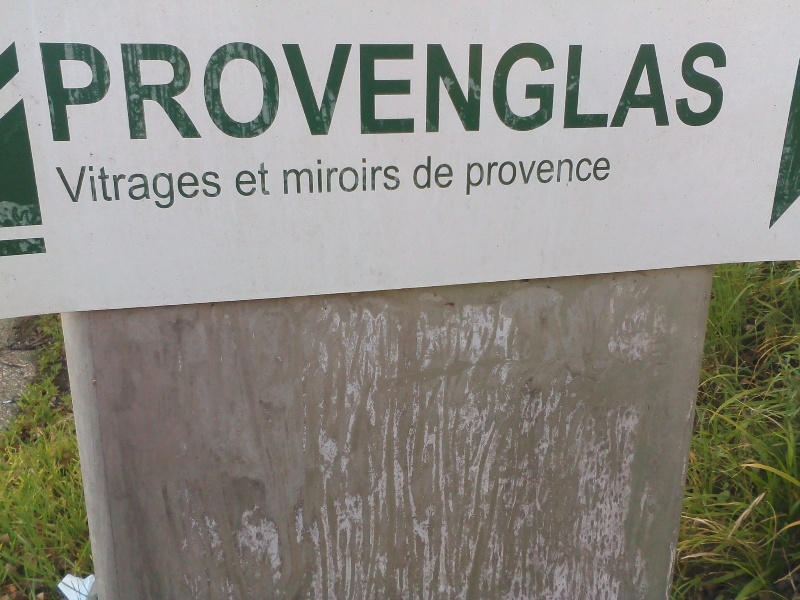text: (49, 41, 64, 143), (65, 41, 80, 143), (81, 41, 96, 143), (97, 41, 112, 143), (113, 41, 128, 143), (129, 41, 144, 143), (145, 41, 160, 143), (161, 41, 176, 143), (177, 41, 192, 143), (193, 41, 208, 143), (209, 41, 224, 143), (225, 41, 240, 143), (241, 41, 256, 143), (257, 41, 272, 143), (273, 41, 288, 143), (289, 41, 304, 143), (305, 41, 320, 143), (321, 41, 336, 143), (337, 41, 352, 143), (353, 41, 368, 143), (369, 41, 384, 143), (385, 41, 400, 143), (401, 41, 416, 143), (417, 41, 432, 143), (433, 41, 448, 143), (449, 41, 464, 143), (465, 41, 480, 143), (481, 41, 496, 143), (497, 41, 512, 143), (513, 41, 528, 143), (529, 41, 544, 143), (545, 41, 560, 143), (561, 41, 576, 143), (577, 41, 592, 143), (593, 41, 608, 143), (609, 41, 624, 143), (625, 41, 640, 143), (641, 41, 656, 143), (657, 41, 672, 143), (673, 41, 688, 143), (689, 41, 704, 143), (705, 41, 720, 143), (38, 41, 48, 143), (65, 165, 80, 214), (81, 165, 96, 214), (97, 165, 112, 214), (113, 165, 128, 214), (129, 165, 144, 214), (145, 165, 160, 214), (161, 165, 176, 214), (177, 165, 192, 214), (193, 165, 208, 214), (721, 41, 728, 143), (209, 165, 223, 214), (385, 155, 401, 196), (289, 155, 304, 196), (305, 155, 320, 196), (321, 155, 336, 196), (337, 155, 352, 196), (353, 155, 368, 196), (369, 155, 384, 196), (481, 156, 496, 196), (497, 156, 512, 196), (513, 156, 528, 196), (529, 156, 544, 196), (545, 156, 560, 196), (561, 156, 576, 196), (577, 156, 592, 196), (593, 156, 608, 196), (417, 154, 432, 191), (433, 154, 448, 191), (241, 162, 256, 198), (467, 156, 480, 196), (257, 162, 271, 198), (54, 165, 64, 214), (282, 155, 288, 196), (449, 154, 455, 191), (234, 162, 240, 198), (609, 156, 614, 196), (413, 154, 416, 191)
